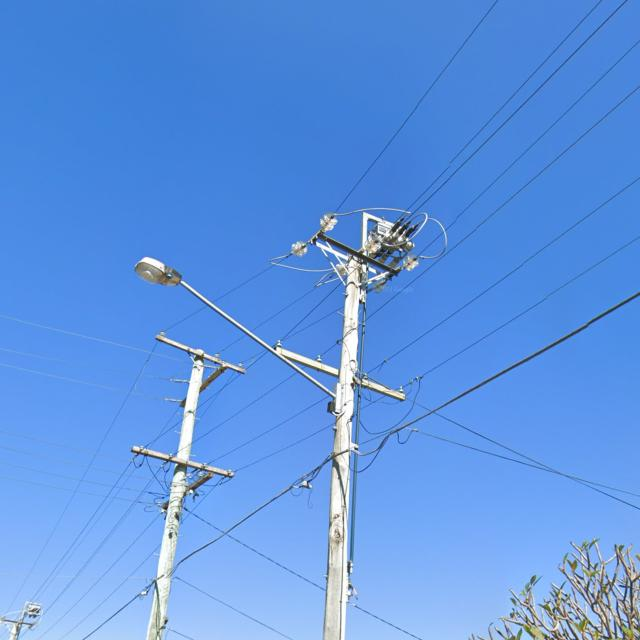HV-switch: (362, 212, 425, 268), (22, 602, 44, 620)
HV-transmission: (286, 213, 420, 293), (156, 330, 247, 376), (163, 362, 227, 408)
crossarm: (273, 344, 407, 402), (154, 333, 246, 375), (317, 230, 400, 276), (131, 444, 234, 480), (310, 240, 392, 281), (179, 364, 227, 408), (159, 472, 215, 509), (1, 617, 33, 627)
streetlight: (133, 257, 335, 400)
timber-pole: (146, 349, 206, 640), (321, 257, 365, 640)
